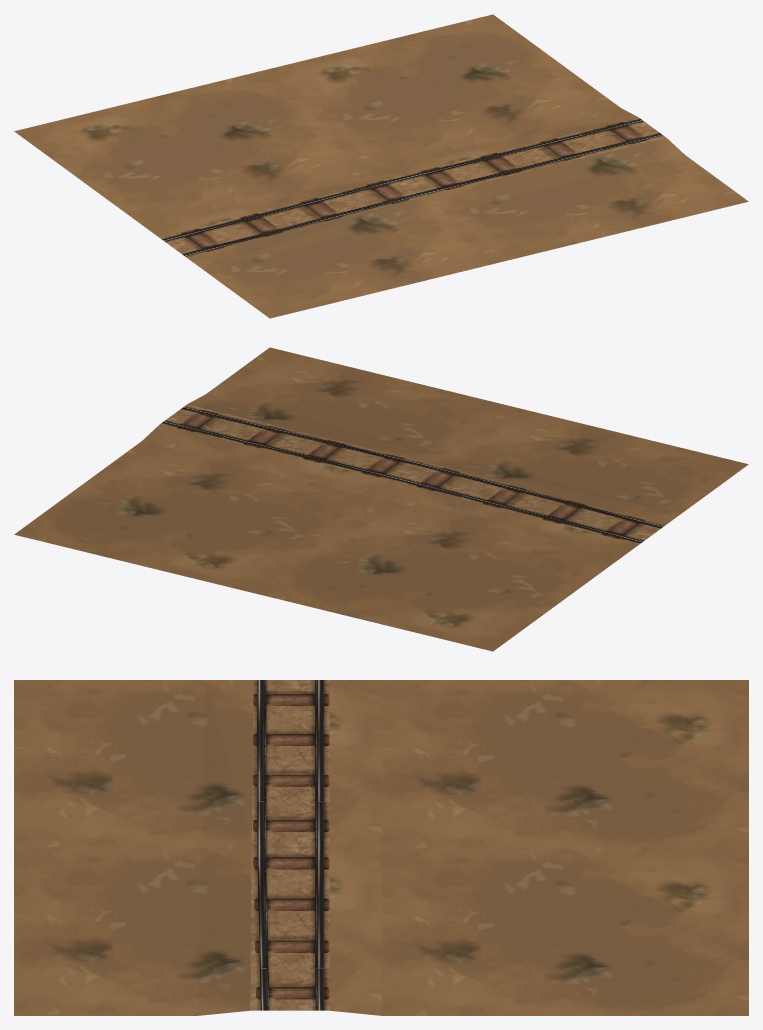
The picture shows the model from 3 angles, top to bottom: view 1: azimuth 30°, elevation 25°; view 2: azimuth 150°, elevation 25°; view 3: azimuth 270°, elevation 25°; orthographic projection. The views are drawn at different scales.
Visible parts, largest first — view 1: Object12; view 2: Object12; view 3: Object12.
Boxes of the visible parts, x1,y1,x2,y2 form: Object12: (14, 14, 748, 318); Object12: (14, 347, 748, 651); Object12: (14, 680, 748, 1015).
Bounding box in the file's own units: 4624 × 33.12 × 4276.
2 materials, 2 textured.
